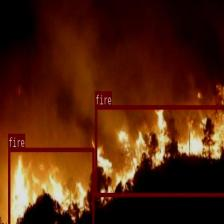fire: (94, 104, 224, 196), (7, 147, 94, 224)
